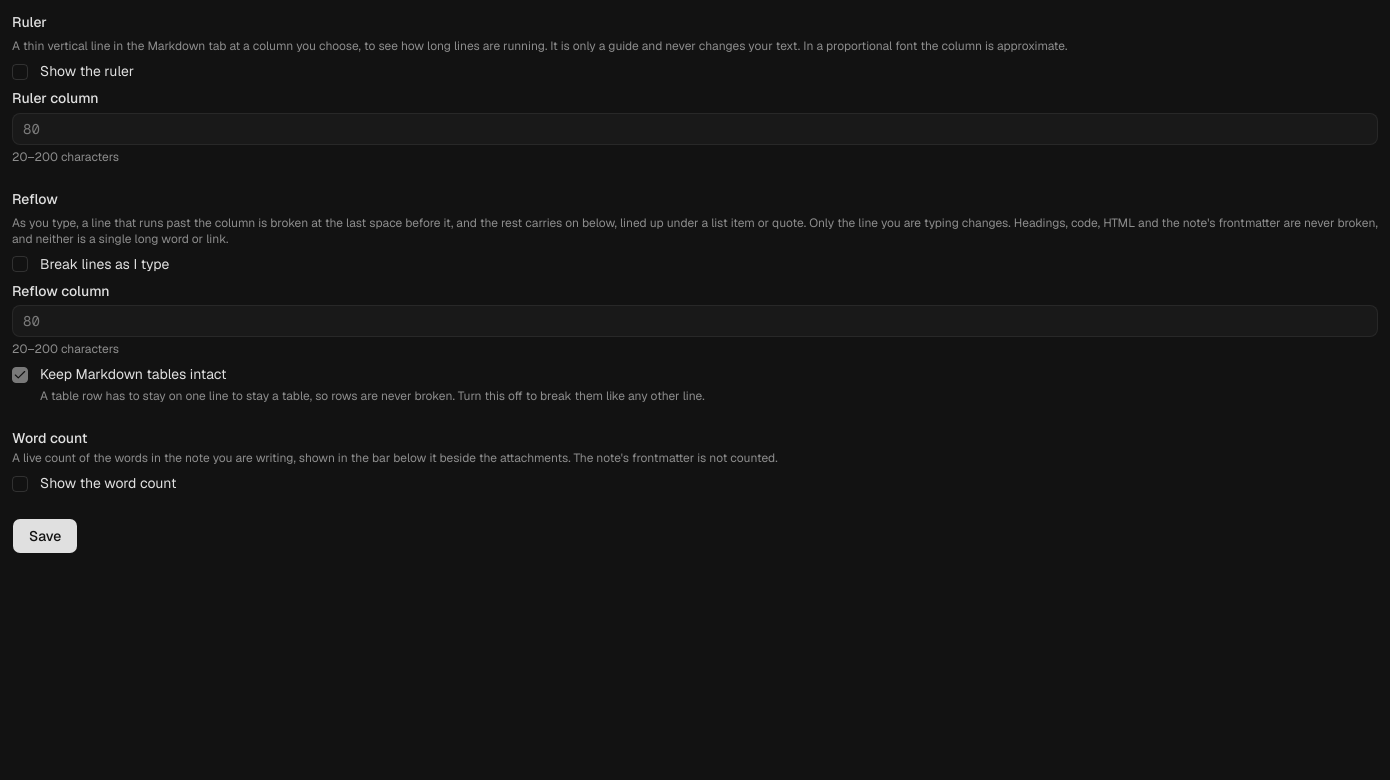
Scenario: writing settings › saves what was chosen
Click the checkbox named "Show the ruler" next to "Show the ruler": (20, 72) top-left (12, 64), bottom-right (28, 80)
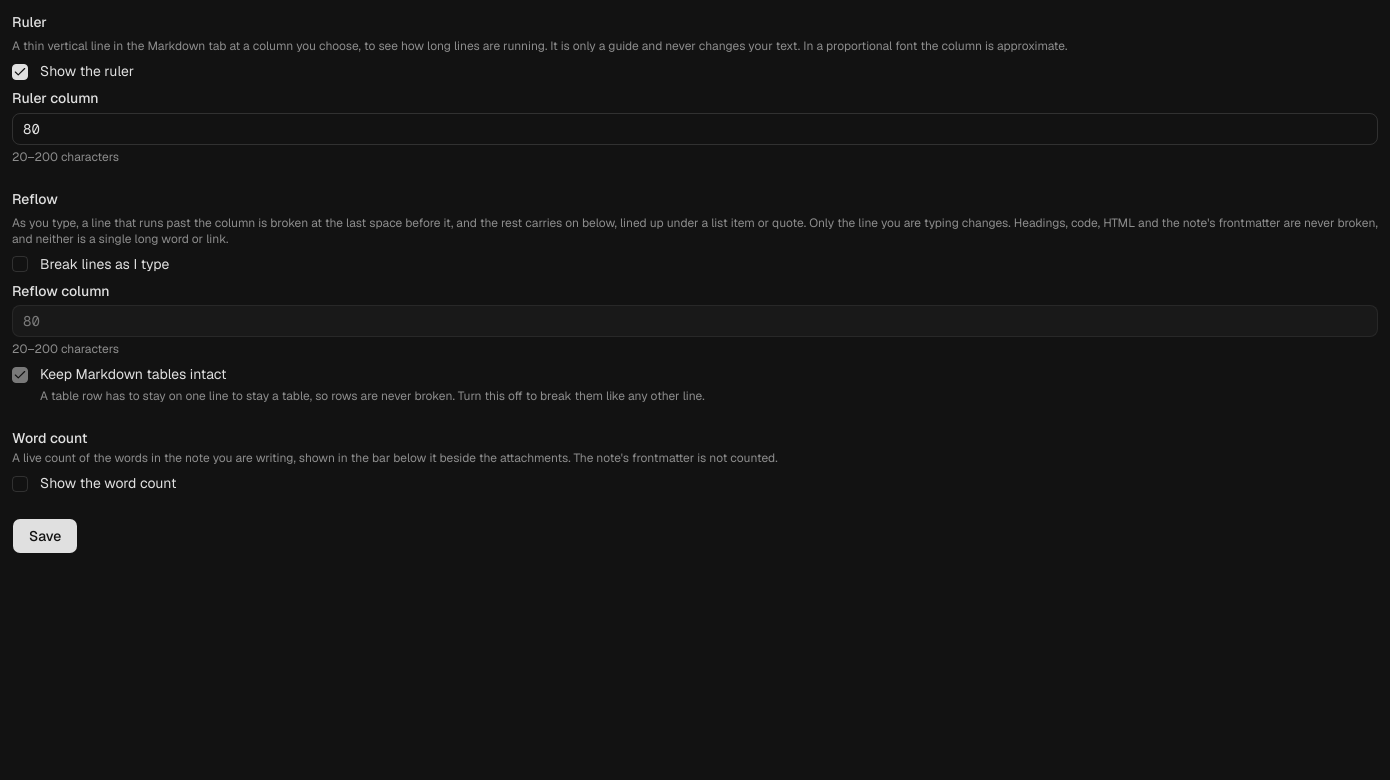
Replace the text in the field labelled "Ruler column" with "100": (695, 128) top-left (12, 112), bottom-right (1378, 144)
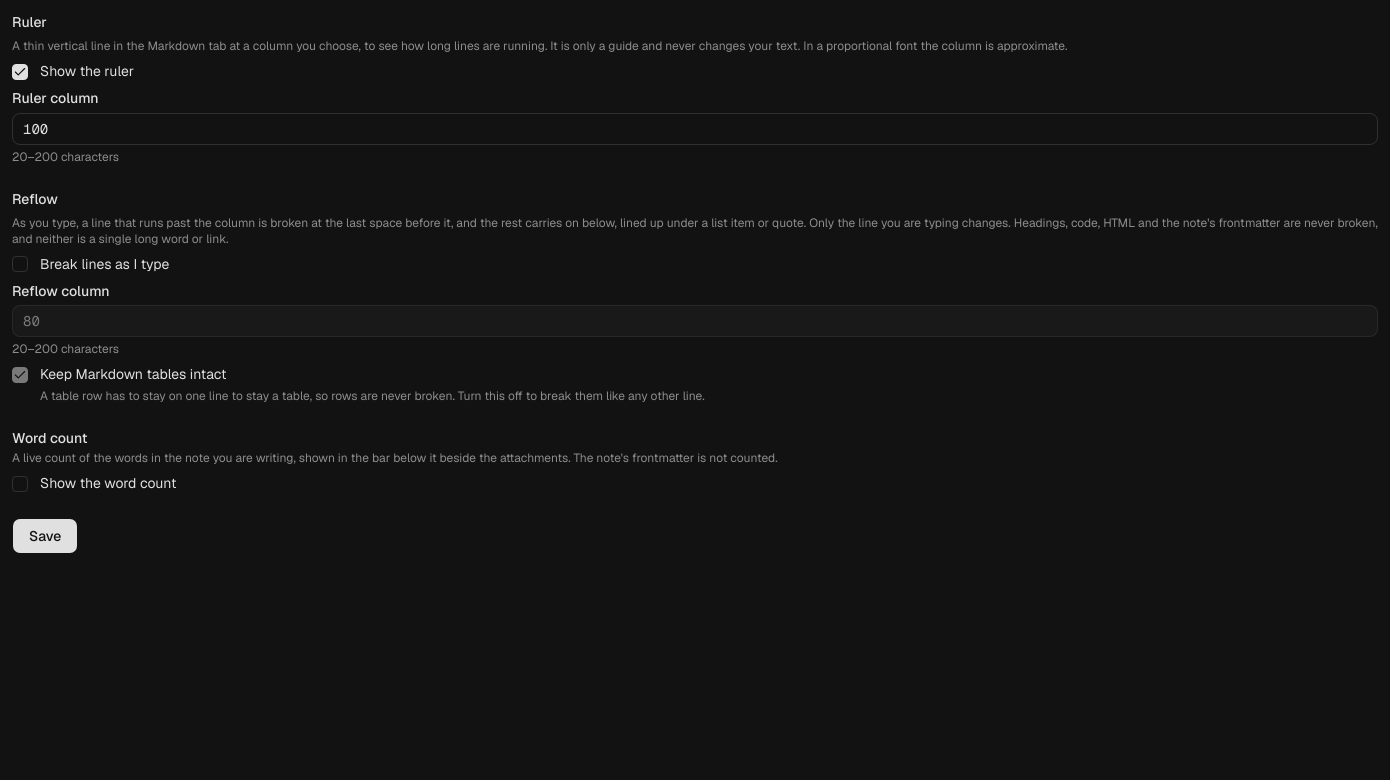
Click the checkbox named "Break lines as I type" next to "Break lines as I type": (20, 264) top-left (12, 256), bottom-right (28, 272)
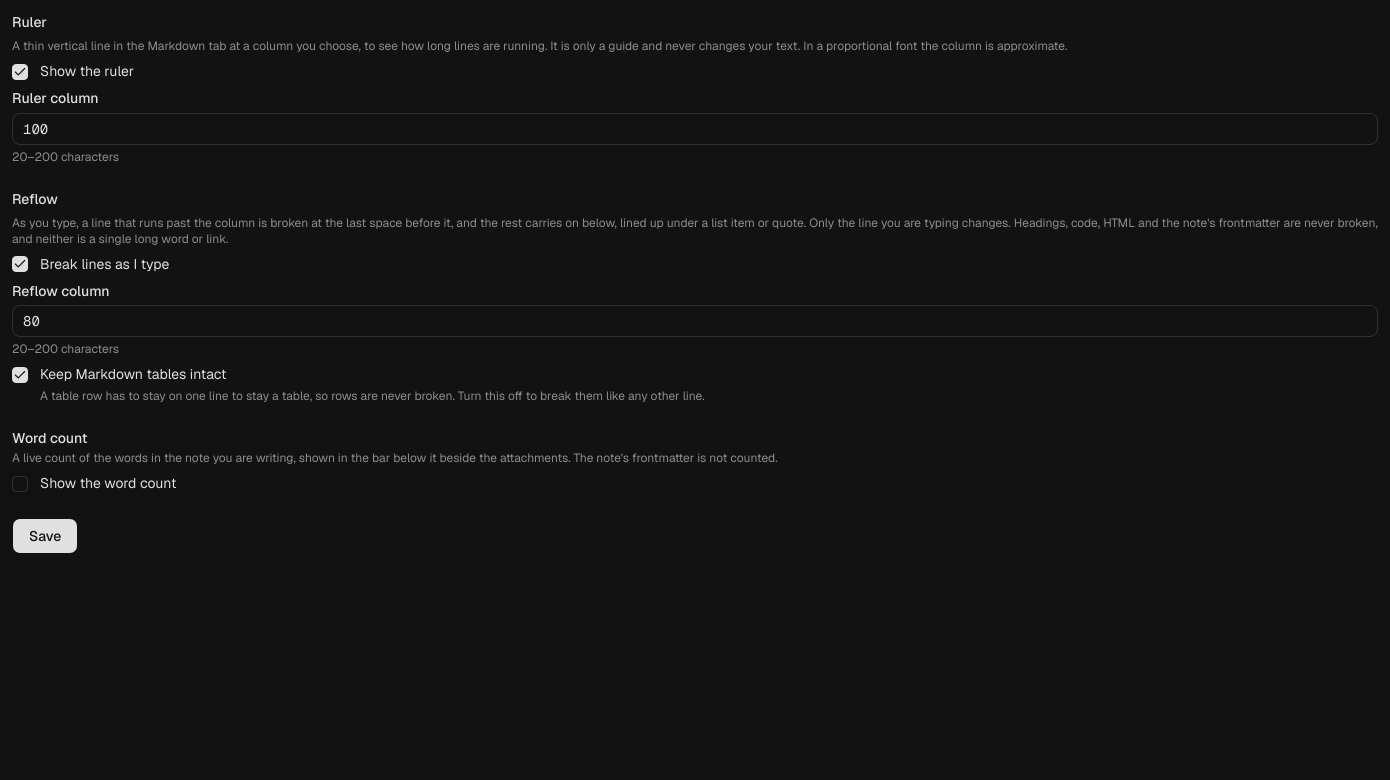
Replace the text in the field labelled "Reflow column" with "72": (695, 321) top-left (12, 305), bottom-right (1378, 337)
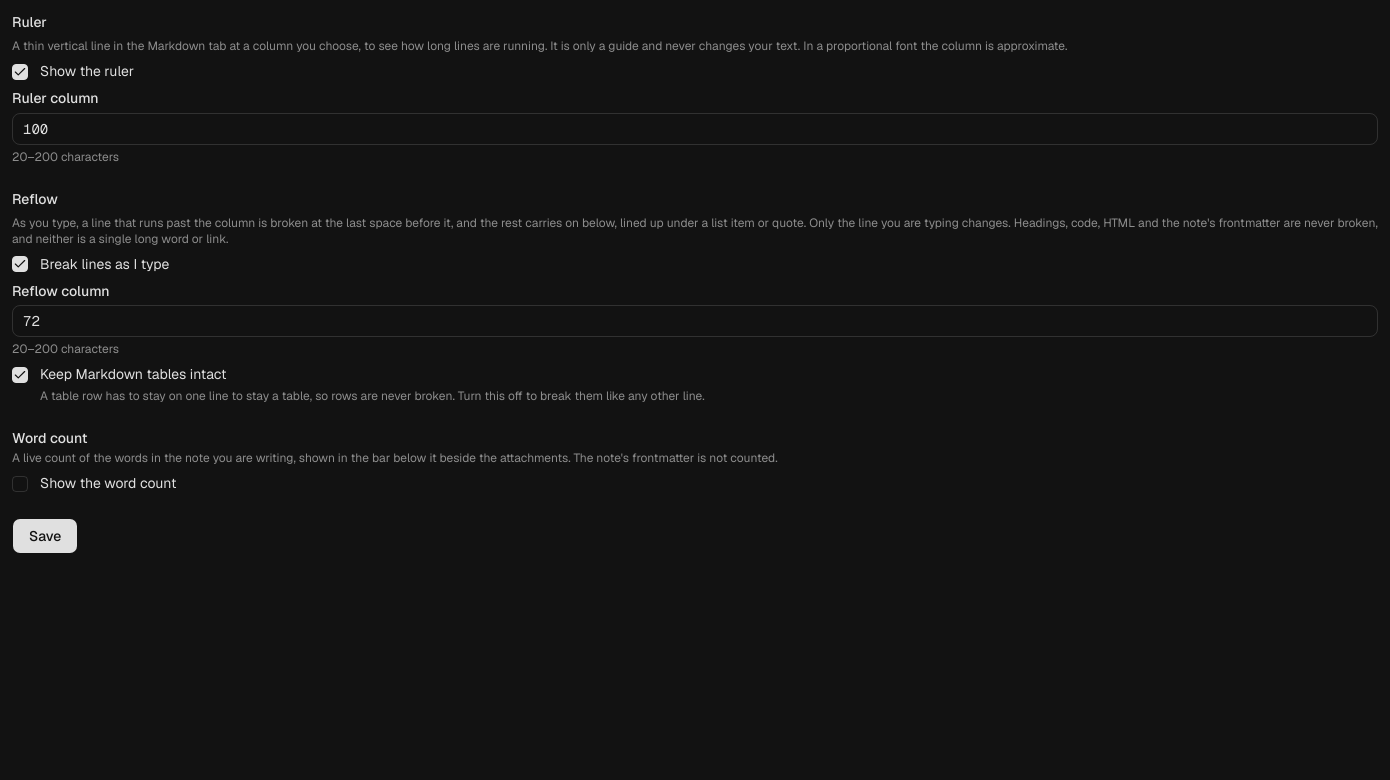
Click the checkbox named "Keep Markdown tables intact" next to "Keep Markdown tables intact": (20, 375) top-left (12, 367), bottom-right (28, 383)
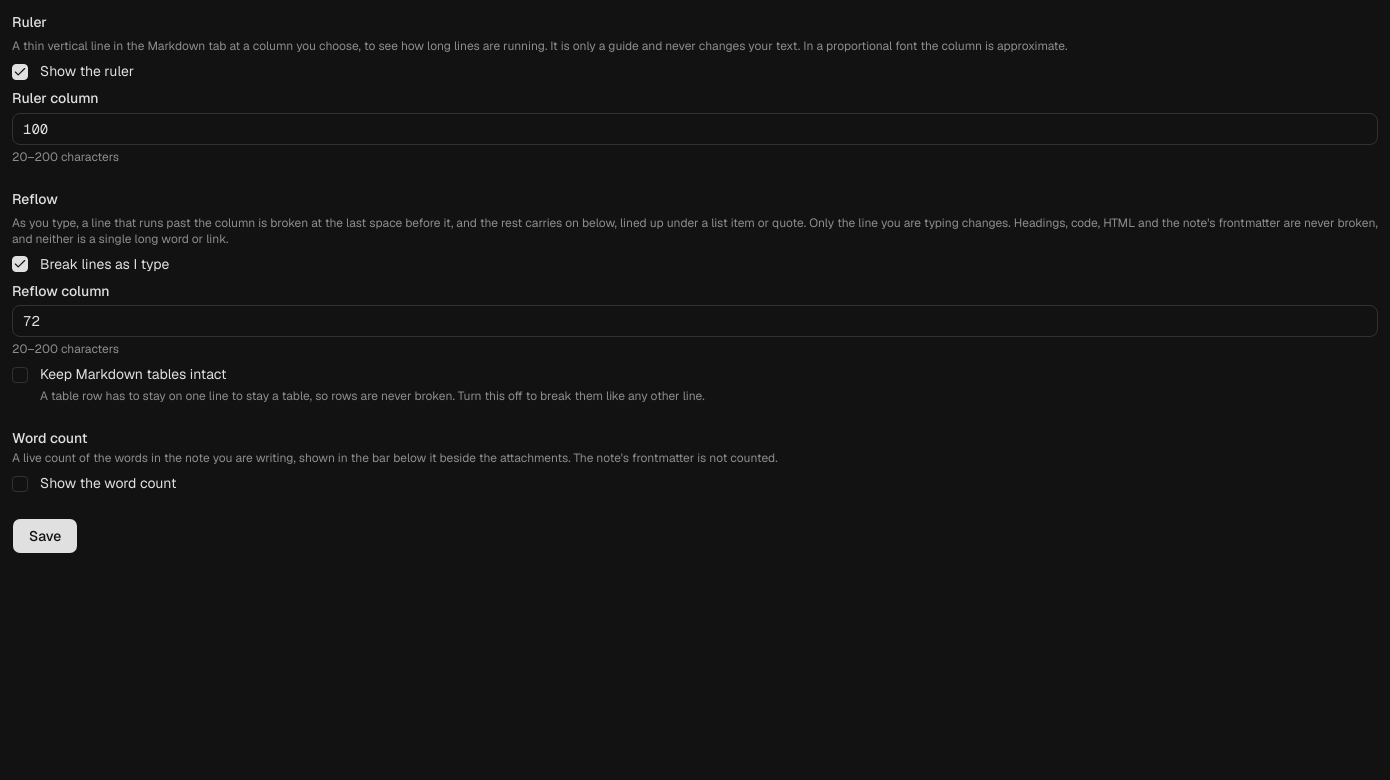
Click the button "Save": (45, 536) top-left (12, 518), bottom-right (78, 554)
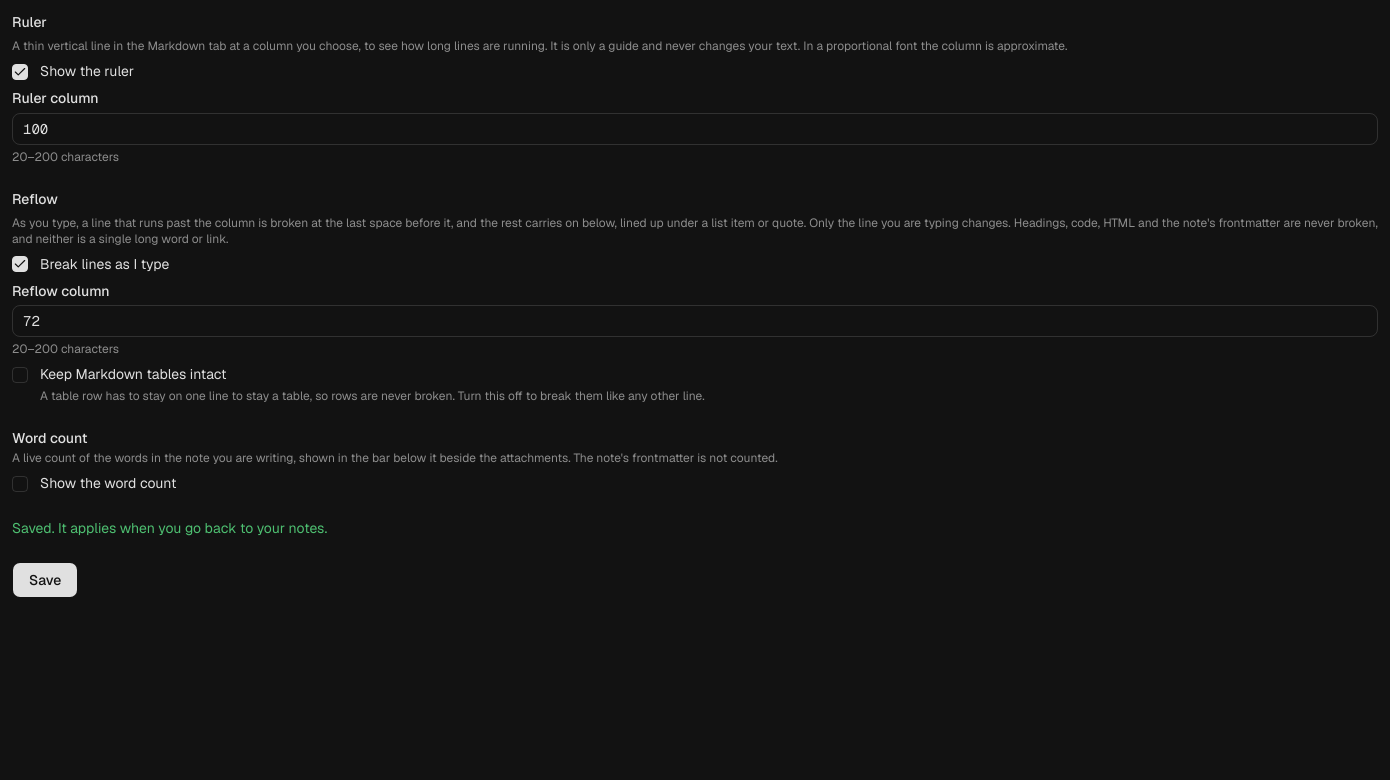
Expected: the message shows "Saved", top-left (12, 518), bottom-right (327, 536)
